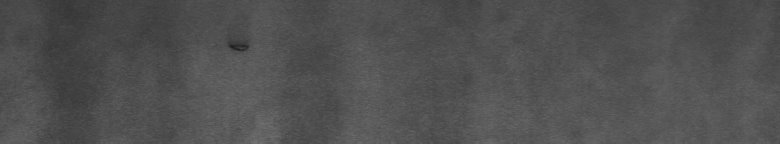fi: (228, 44, 250, 56)
